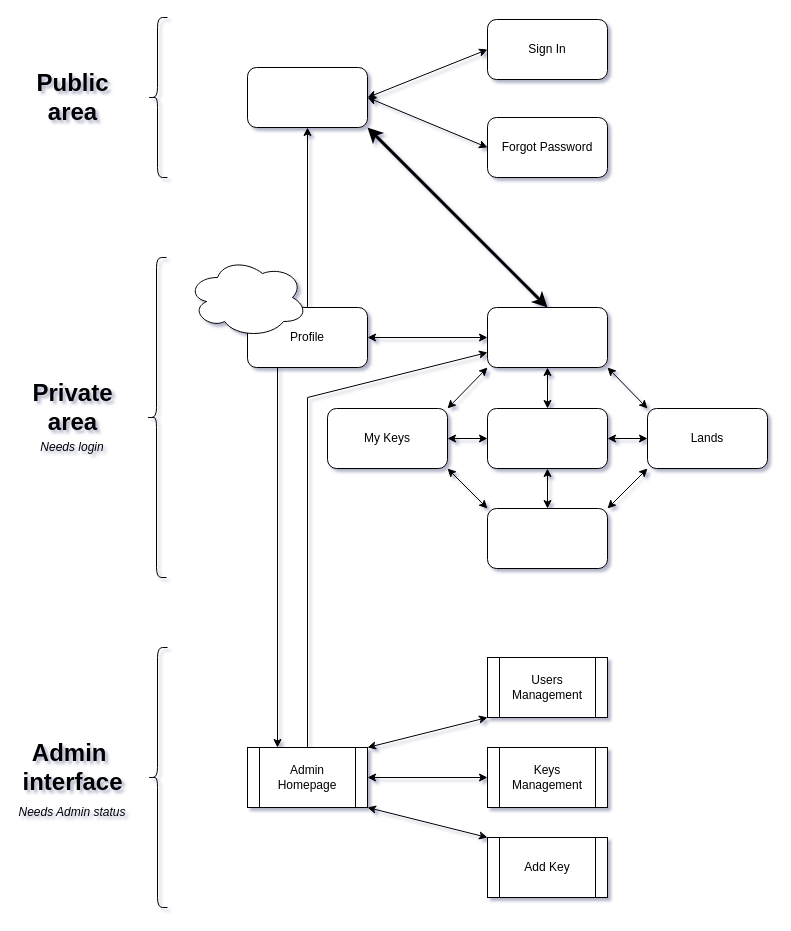
Image size: 791x931. Some labels were removed from this diagram. The shapes that lost their labels are listed below. From the top down, each one's box as (x1, y1, x2, y2) in pixels, then its label:
(246, 66, 368, 128): Login
(186, 256, 308, 338): Avatar
(486, 306, 608, 368): Homepage
(486, 408, 608, 468): All Keys
(486, 508, 608, 568): Key Page
